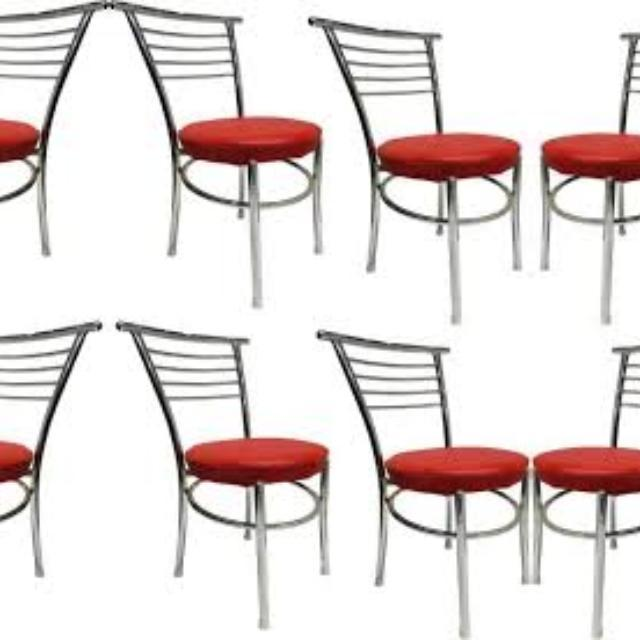obstacle: (308, 6, 530, 316), (118, 293, 334, 599), (108, 2, 326, 300), (343, 301, 522, 640), (537, 301, 640, 640), (529, 6, 640, 316), (0, 2, 108, 300), (0, 293, 98, 599)
